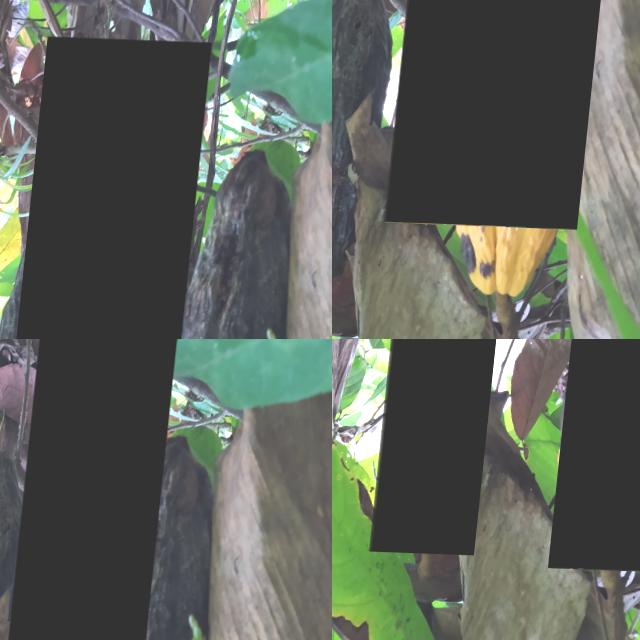Fitoftora: (19, 34, 213, 339), (4, 339, 179, 640), (394, 0, 624, 225), (380, 339, 511, 552), (559, 339, 640, 568)
